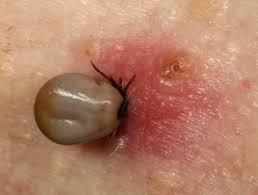Tick: (29, 22, 224, 166)
